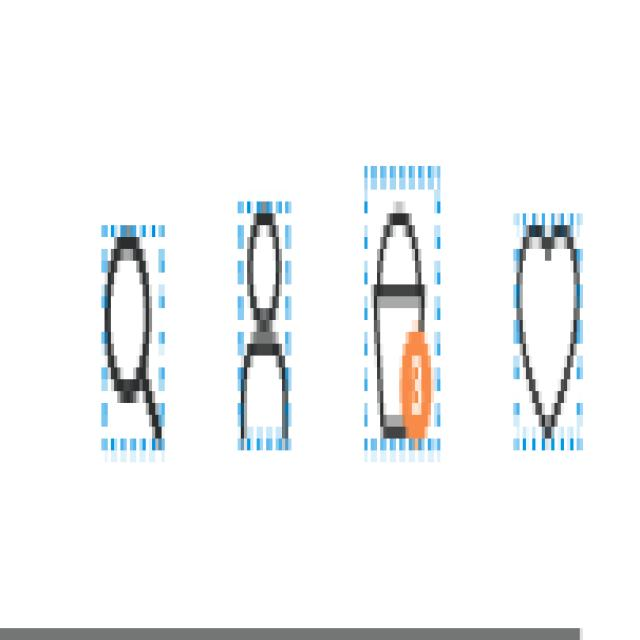Account: (243, 211, 285, 438)
MiniCart: (367, 191, 433, 436)
Search: (106, 230, 160, 440)
Whishlist: (516, 223, 580, 437)
